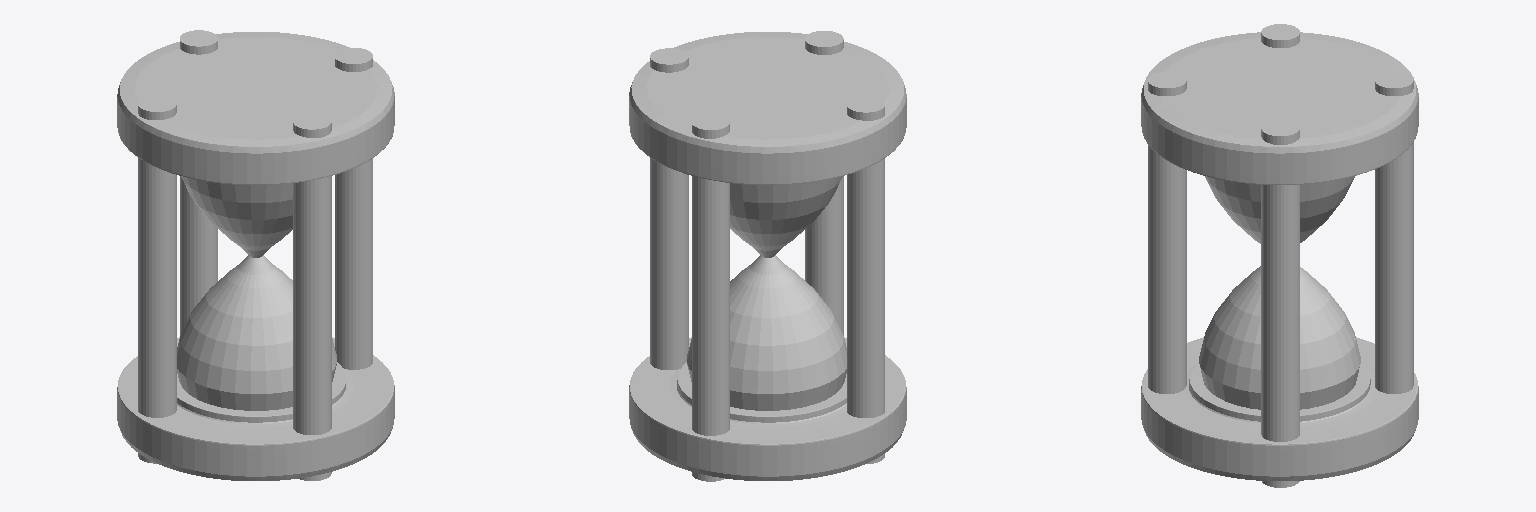
File: hourglass.obj
The picture shows the model from 3 angles: view 1: azimuth 30°, elevation 25°; view 2: azimuth 150°, elevation 25°; view 3: azimuth 270°, elevation 25°; orthographic projection.
Visible parts, largest first — view 1: HourGlass; view 2: HourGlass; view 3: HourGlass.
Part boxes in pixels (x1,y1,x2,y2): HourGlass: (117,30,394,480); HourGlass: (629,31,906,481); HourGlass: (1141,24,1418,487).
Bounding box in the file's own units: 1.99 × 2.78 × 1.99.